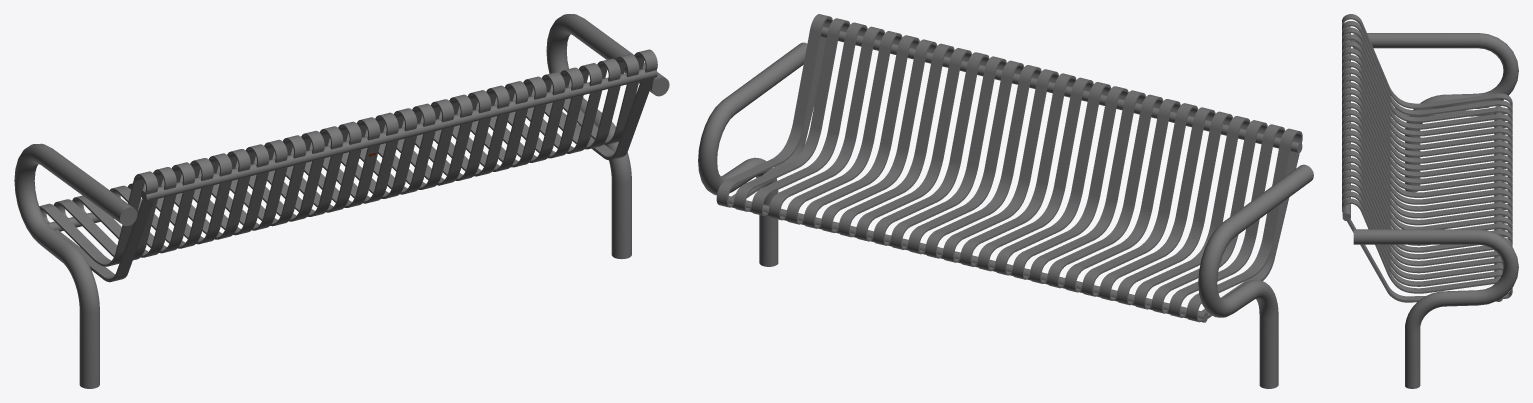
3 renders of one model, left to right at view 1: azimuth 30°, elevation 25°; view 2: azimuth 150°, elevation 25°; view 3: azimuth 270°, elevation 25°, orthographic. The views are drawn at different scales.
Visible parts, largest first — view 1: mesh69_mesh69-geometry, mesh61_mesh61-geometry, mesh1_mesh1-geometry, mesh27_mesh27-geometry, mesh23_mesh23-geometry, mesh19_mesh19-geometry, mesh15_mesh15-geometry, mesh7_mesh7-geometry, mesh11_mesh11-geometry, mesh31_mesh31-geometry, mesh21_mesh21-geometry, mesh53_mesh53-geometry (+21 smaller); view 2: mesh69_mesh69-geometry, mesh61_mesh61-geometry, mesh21_mesh21-geometry, mesh35_mesh35-geometry, mesh37_mesh37-geometry, mesh49_mesh49-geometry, mesh55_mesh55-geometry, mesh33_mesh33-geometry, mesh47_mesh47-geometry, mesh9_mesh9-geometry, mesh11_mesh11-geometry, mesh31_mesh31-geometry (+22 smaller); view 3: mesh61_mesh61-geometry, mesh69_mesh69-geometry, mesh11_mesh11-geometry, mesh53_mesh53-geometry, mesh51_mesh51-geometry, mesh55_mesh55-geometry, mesh9_mesh9-geometry, mesh27_mesh27-geometry, mesh15_mesh15-geometry, mesh13_mesh13-geometry, mesh17_mesh17-geometry, mesh31_mesh31-geometry (+22 smaller).
Boxes of the visible parts, x1=… form: mesh69_mesh69-geometry: x1=14, y1=143, x2=137, y2=388; mesh61_mesh61-geometry: x1=546, y1=14, x2=669, y2=259; mesh1_mesh1-geometry: x1=141, y1=68, x2=657, y2=201; mesh27_mesh27-geometry: x1=39, y1=171, x2=158, y2=266; mesh23_mesh23-geometry: x1=72, y1=162, x2=195, y2=257; mesh19_mesh19-geometry: x1=54, y1=167, x2=176, y2=260; mesh15_mesh15-geometry: x1=110, y1=153, x2=232, y2=248; mesh7_mesh7-geometry: x1=55, y1=200, x2=154, y2=282; mesh11_mesh11-geometry: x1=128, y1=149, x2=250, y2=244; mesh31_mesh31-geometry: x1=180, y1=139, x2=287, y2=235; mesh21_mesh21-geometry: x1=217, y1=130, x2=324, y2=226; mesh53_mesh53-geometry: x1=254, y1=121, x2=361, y2=216; mesh69_mesh69-geometry: x1=1198, y1=164, x2=1313, y2=388; mesh61_mesh61-geometry: x1=698, y1=42, x2=807, y2=266; mesh21_mesh21-geometry: x1=1030, y1=90, x2=1145, y2=283; mesh35_mesh35-geometry: x1=786, y1=31, x2=902, y2=224; mesh37_mesh37-geometry: x1=821, y1=39, x2=937, y2=233; mesh49_mesh49-geometry: x1=803, y1=35, x2=919, y2=228; mesh55_mesh55-geometry: x1=977, y1=77, x2=1093, y2=271; mesh33_mesh33-geometry: x1=960, y1=73, x2=1076, y2=266; mesh47_mesh47-geometry: x1=1012, y1=86, x2=1128, y2=279; mesh9_mesh9-geometry: x1=1082, y1=103, x2=1197, y2=296; mesh11_mesh11-geometry: x1=1099, y1=107, x2=1215, y2=300; mesh31_mesh31-geometry: x1=1064, y1=99, x2=1180, y2=292; mesh61_mesh61-geometry: x1=1353, y1=229, x2=1518, y2=388; mesh69_mesh69-geometry: x1=1353, y1=33, x2=1518, y2=192; mesh11_mesh11-geometry: x1=1342, y1=48, x2=1512, y2=148; mesh53_mesh53-geometry: x1=1342, y1=89, x2=1512, y2=189; mesh51_mesh51-geometry: x1=1342, y1=130, x2=1512, y2=230; mesh55_mesh55-geometry: x1=1342, y1=96, x2=1512, y2=196; mesh9_mesh9-geometry: x1=1342, y1=55, x2=1512, y2=155; mesh27_mesh27-geometry: x1=1342, y1=14, x2=1512, y2=114; mesh15_mesh15-geometry: x1=1342, y1=41, x2=1512, y2=141; mesh13_mesh13-geometry: x1=1342, y1=109, x2=1512, y2=209; mesh17_mesh17-geometry: x1=1342, y1=34, x2=1512, y2=134; mesh31_mesh31-geometry: x1=1342, y1=62, x2=1512, y2=162.
Bounding box in the file's own units: 0.8753 × 0.3603 × 0.3225.
